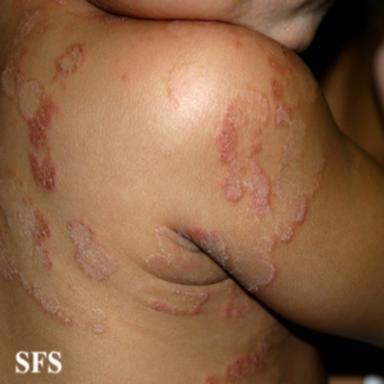Tinea-Corporis: (217, 44, 325, 292), (0, 167, 107, 332), (0, 5, 87, 192), (201, 318, 288, 384), (143, 222, 229, 285), (131, 280, 258, 320), (67, 221, 119, 280)
